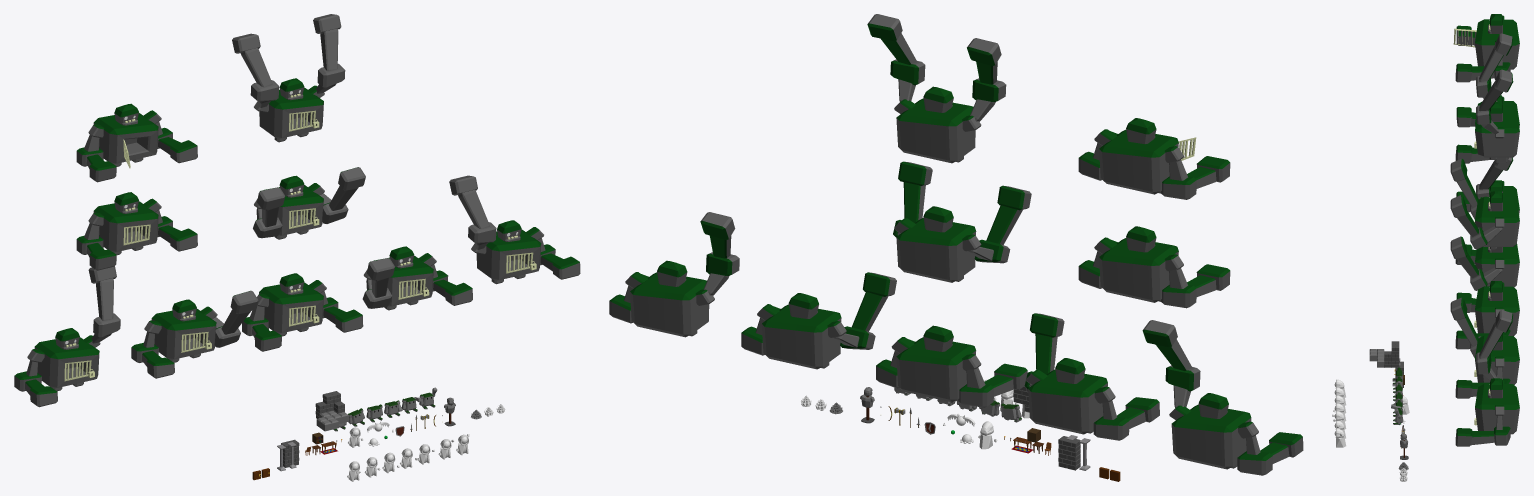
File: Golem3.fbx
The picture shows the model from 3 angles, left to right: view 1: azimuth 30°, elevation 25°; view 2: azimuth 150°, elevation 25°; view 3: azimuth 270°, elevation 25°; orthographic projection. The views are drawn at different scales.
Parts seen in each view (by area): view 1: Sphere.078, Sphere.045, Sphere.033, Sphere.079, Sphere.044, Sphere.022, Sphere.072, Sphere.080, Sphere.003, Sphere.061, Sphere.070, Sphere.052 (+2 smaller); view 2: Sphere.078, Sphere.022, Sphere.072, Sphere.003, Sphere.061, Sphere.045, Sphere.033, Sphere.044, Sphere.079, Sphere.080, Sphere.059, Sphere.011 (+8 smaller); view 3: Sphere.022, Sphere.072, Sphere.061, Sphere.044, Sphere.080, Sphere.033, Sphere.003, Sphere.079, Sphere.078, Sphere.015, Sphere.074, Sphere.059 (+24 smaller).
Part boxes in pixels (<box>): Sphere.078: <box>76,192,197,270</box>; Sphere.045: <box>34,328,99,391</box>; Sphere.033: <box>151,299,216,362</box>; Sphere.079: <box>76,103,197,182</box>; Sphere.044: <box>259,273,323,336</box>; Sphere.022: <box>476,220,541,284</box>; Sphere.072: <box>259,78,323,142</box>; Sphere.080: <box>93,113,158,164</box>; Sphere.003: <box>374,246,433,310</box>; Sphere.061: <box>263,175,323,239</box>; Sphere.070: <box>320,28,338,71</box>; Sphere.052: <box>96,278,113,320</box>; Sphere.078: <box>1078,226,1230,308</box>; Sphere.022: <box>630,260,709,337</box>; Sphere.072: <box>896,86,975,163</box>; Sphere.003: <box>761,293,841,369</box>; Sphere.061: <box>896,206,976,282</box>; Sphere.045: <box>1171,393,1251,469</box>; Sphere.033: <box>1028,358,1107,434</box>; Sphere.044: <box>896,325,976,402</box>; Sphere.079: <box>1078,118,1230,199</box>; Sphere.080: <box>1099,129,1178,194</box>; Sphere.059: <box>986,205,1022,244</box>; Sphere.011: <box>852,292,887,331</box>; Sphere.022: <box>1474,378,1519,434</box>; Sphere.072: <box>1474,101,1519,159</box>; Sphere.061: <box>1475,191,1519,249</box>; Sphere.044: <box>1474,281,1519,336</box>; Sphere.080: <box>1475,19,1519,69</box>; Sphere.033: <box>1475,244,1519,287</box>; Sphere.003: <box>1474,334,1519,384</box>; Sphere.079: <box>1455,14,1510,82</box>; Sphere.078: <box>1455,95,1519,163</box>; Sphere.015: <box>1479,322,1503,358</box>; Sphere.074: <box>1479,45,1503,81</box>; Sphere.059: <box>1457,175,1478,207</box>.
Size of the model in its own units: 15450 by 10563 by 5034.
